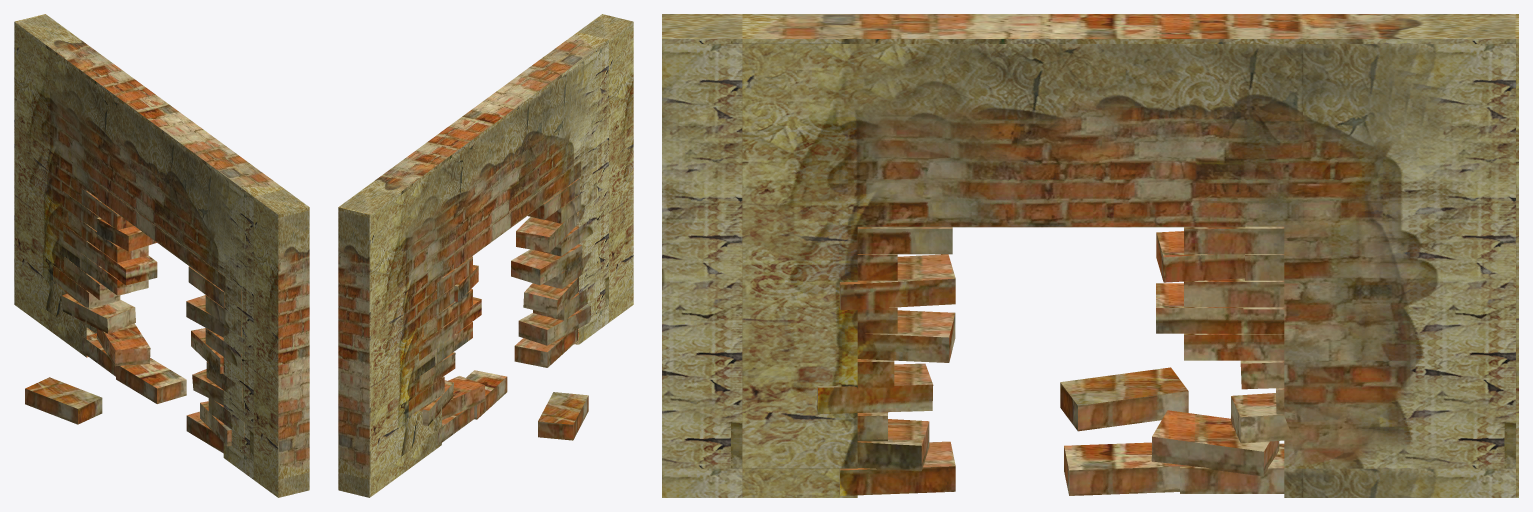
File: broken_wall.FBX
3 renders of one model, left to right at view 1: azimuth 30°, elevation 25°; view 2: azimuth 150°, elevation 25°; view 3: azimuth 270°, elevation 25°, orthographic. The views are drawn at different scales.
Visible parts, largest first — view 1: Box149, Box147; view 2: Box149, Box147; view 3: Box149, Box147.
Part boxes in pixels (left/top/right/bottom): Box149: left=14, top=14, right=309, bottom=497; Box147: left=25, top=184, right=244, bottom=453; Box149: left=338, top=14, right=633, bottom=497; Box147: left=408, top=149, right=599, bottom=444; Box149: left=662, top=14, right=1518, bottom=497; Box147: left=816, top=226, right=1293, bottom=495.
Bounding box in the file's own units: 25.41 × 50.55 × 85.47.
Materials: 1 (1 with a texture image).
